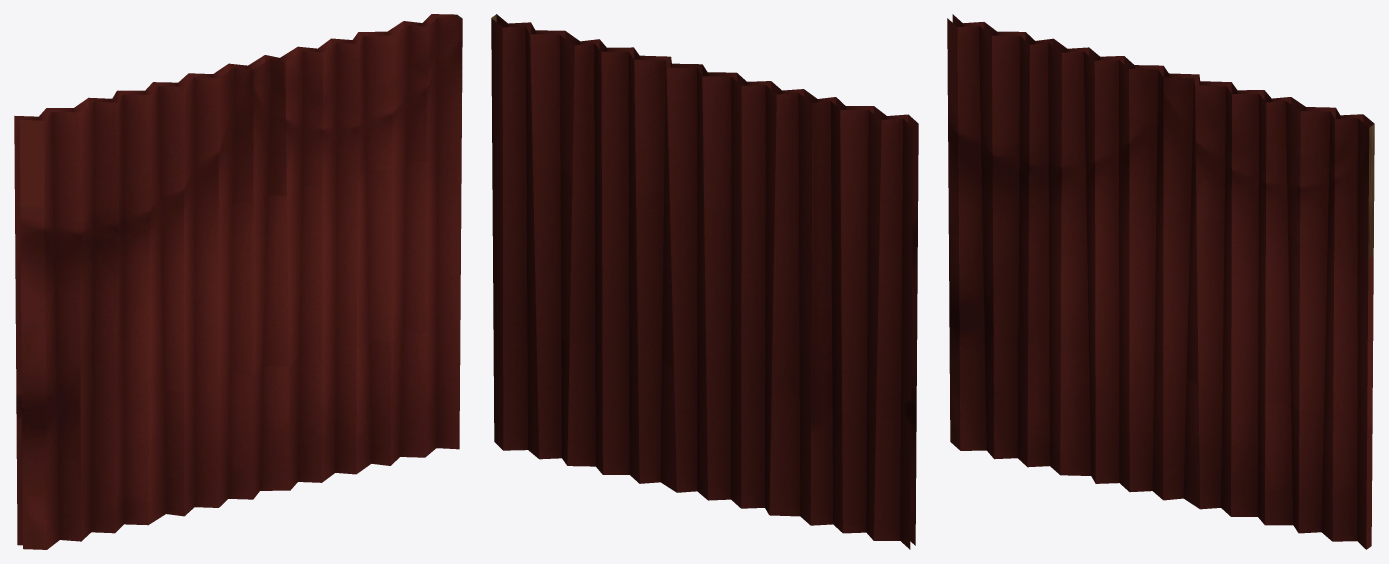
File: EndLevelCurtains_Left.obj
3 views of the same model, side by side, from view 1: azimuth 30°, elevation 25°; view 2: azimuth 150°, elevation 25°; view 3: azimuth 330°, elevation 25° (orthographic).
Visible parts, largest first — view 1: Model_EndLevelCurtains_Left; view 2: Model_EndLevelCurtains_Left; view 3: Model_EndLevelCurtains_Left.
Part boxes in pixels (x1,y1,x2,y2): Model_EndLevelCurtains_Left: (14,14,462,549); Model_EndLevelCurtains_Left: (491,14,918,549); Model_EndLevelCurtains_Left: (947,14,1374,549).
Bounding box in the file's own units: 7.33 × 6.91 × 0.364.
1 material, 1 textured.
